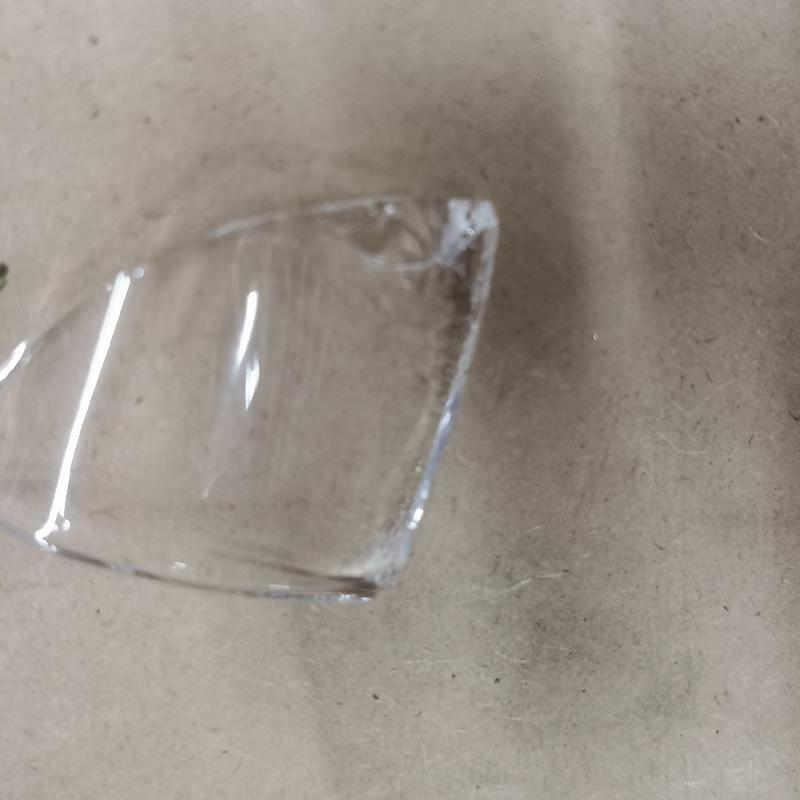glass: (6, 186, 500, 613)
